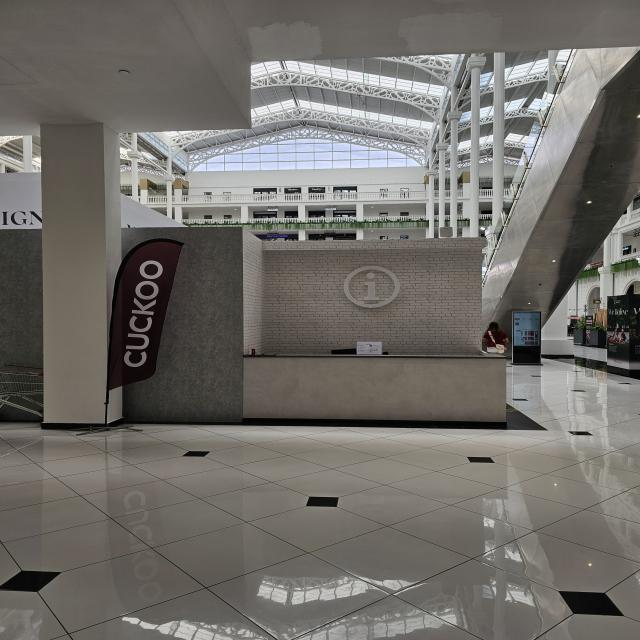footpath: (0, 429, 630, 640)
obstacle: (229, 235, 479, 422)
person: (478, 320, 512, 358)
